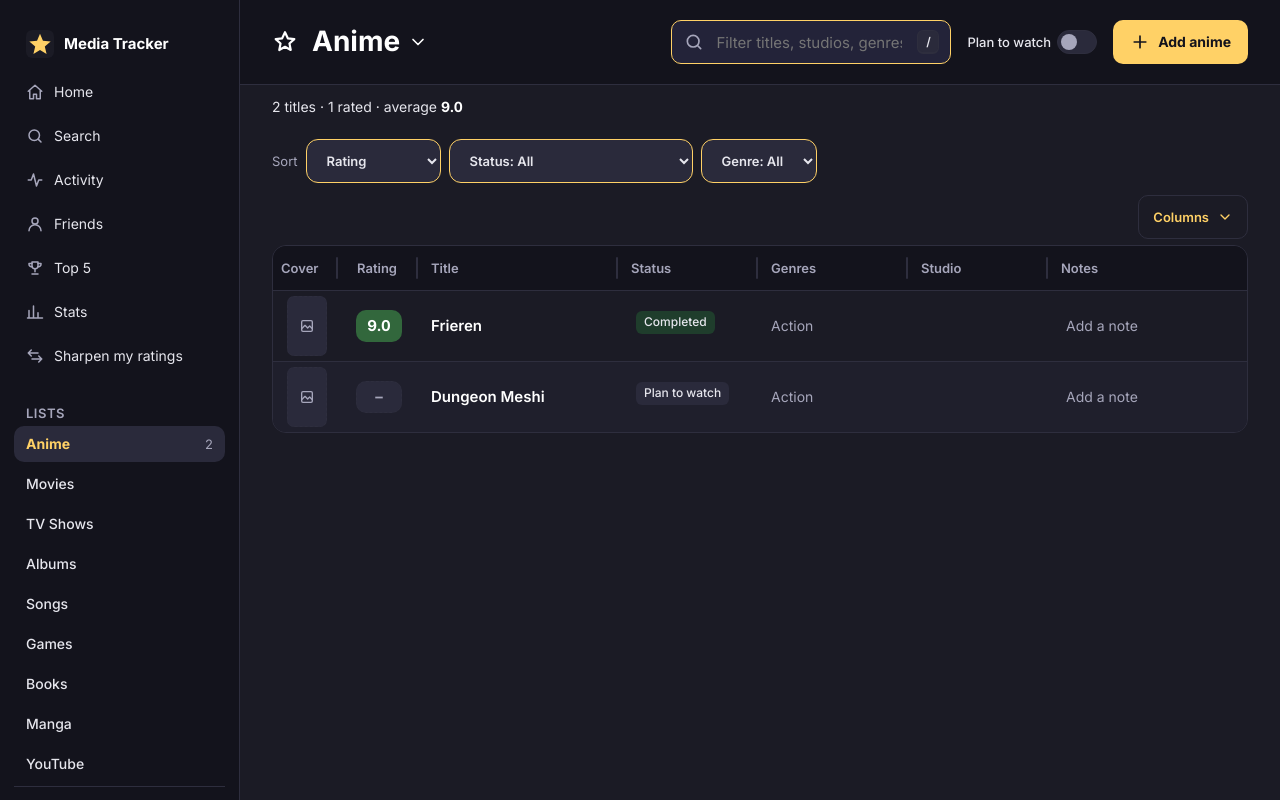
Test case: Plan to watch view › PC: the switch shows the same planned list
Expected: the link "Frieren" is shown, x1=431 y1=316 x2=482 y2=335
Click the switch labelled "Plan to watch": [1032, 42] box x1=964 y1=20 x2=1101 y2=64
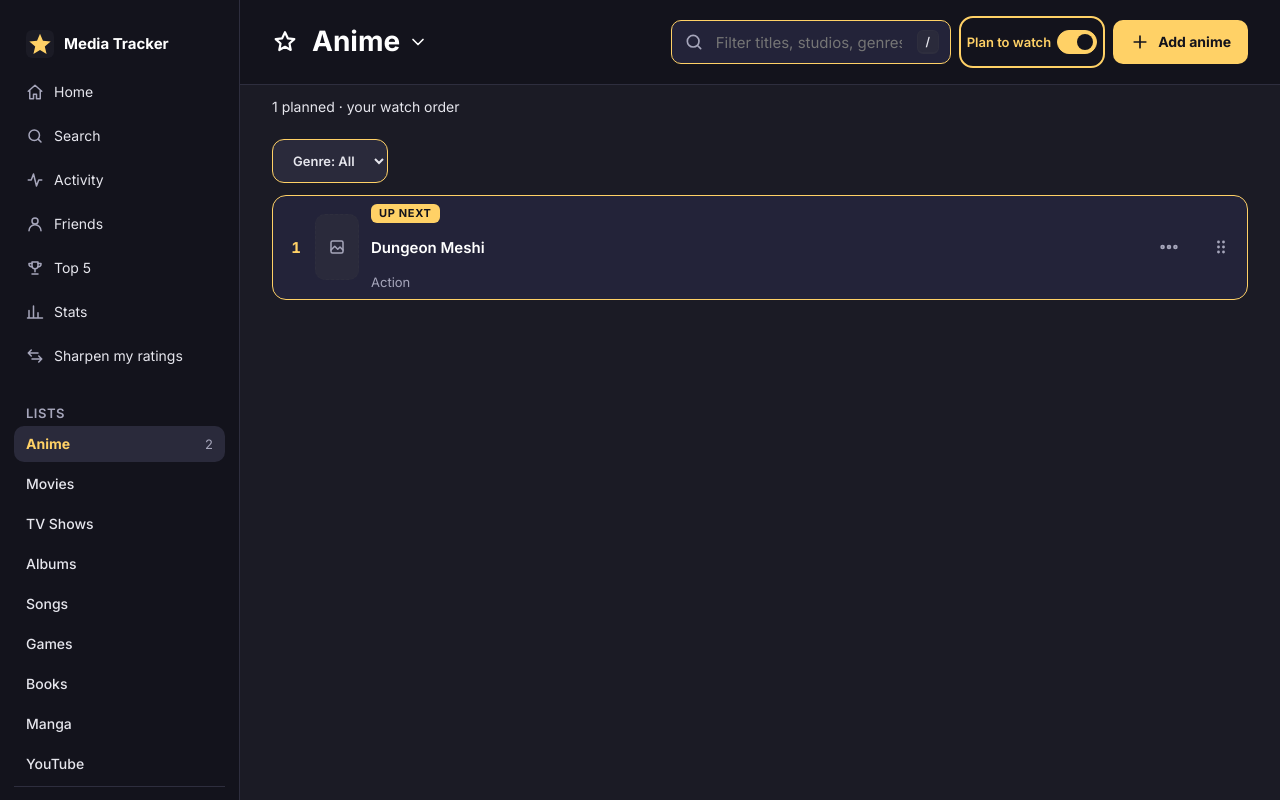
Now the label "Sort" is gone
Now the text "Status" is gone
